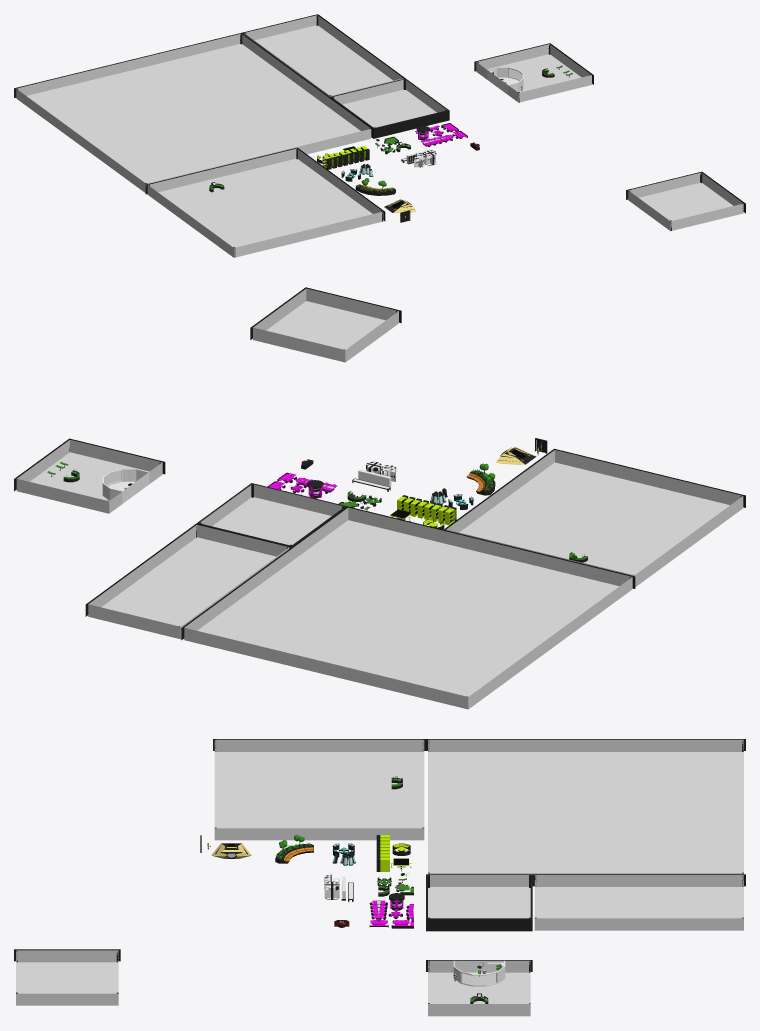
Rendered from Room1x1.fbx.
The picture shows the model from 3 angles, top to bottom: view 1: azimuth 30°, elevation 25°; view 2: azimuth 150°, elevation 25°; view 3: azimuth 270°, elevation 25°; orthographic projection. The views are drawn at different scales.
Visible parts, largest first — view 1: Room 3x3, Room 2x2, Room 1x2, testrooms.001, Room 1x1, Room 1x1.001, Окружность, Sofa; view 2: Room 3x3, Room 2x2, Room 1x2, testrooms.001, Room 1x1.001, Room 1x1, Окружность; view 3: Room 3x3, Room 2x2, Room 1x2, Room 1x1, testrooms.001, Room 1x1.001, Окружность, Sofa, Куб.002.
Part boxes in pixels (x1,y1,x2,y2): Room 3x3: (14,32,373,192); Room 2x2: (145,147,385,257); Room 1x2: (242,14,405,96); testrooms.001: (626,171,745,231); Room 1x1: (330,78,449,138); Room 1x1.001: (474,43,593,102); Окружность: (487,67,523,94); Sofa: (355,178,395,195); Room 3x3: (181,506,635,709); Room 2x2: (444,448,745,586); Room 1x2: (85,524,289,639); testrooms.001: (250,287,401,362); Room 1x1.001: (14,438,165,513); Room 1x1: (196,483,346,548); Окружность: (102,469,149,503); Room 3x3: (426,739,745,874); Room 2x2: (213,739,425,840); Room 1x2: (532,874,745,930); Room 1x1: (426,874,532,931); testrooms.001: (14,949,120,1005); Room 1x1.001: (426,960,532,1016); Окружность: (453,960,505,986); Sofa: (275,834,313,863); Куб.002: (211,843,251,858).
Size of the model in its own units: 23604 by 645 by 27461.
